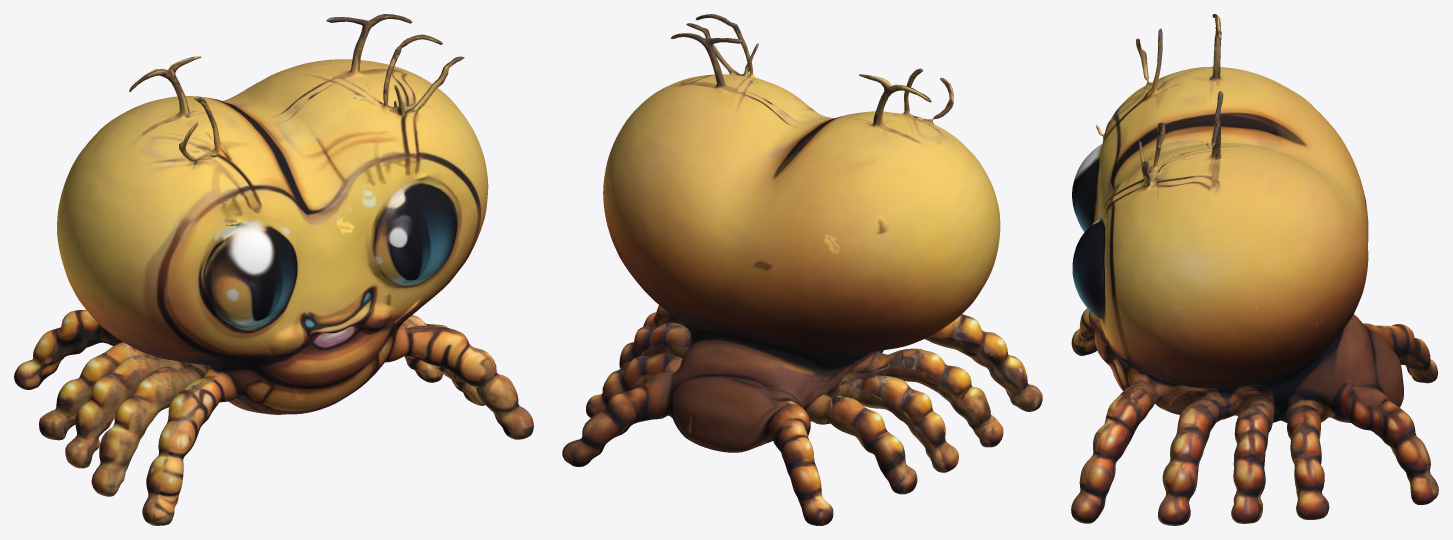
The model's file is bugbud.gltf.
3 views of the same model, side by side, from view 1: azimuth 30°, elevation 25°; view 2: azimuth 150°, elevation 25°; view 3: azimuth 270°, elevation 25° (orthographic). The views are drawn at different scales.
Parts seen in each view (by area): view 1: Mesh_0; view 2: Mesh_0; view 3: Mesh_0.
Boxes of the visible parts, x1,y1,x2,y2 form: Mesh_0: [14, 14, 533, 525]; Mesh_0: [562, 14, 1042, 525]; Mesh_0: [1071, 14, 1438, 525].
Size of the model in its own units: 2 by 1.94 by 1.71.
Materials: 1 (1 with a texture image).
